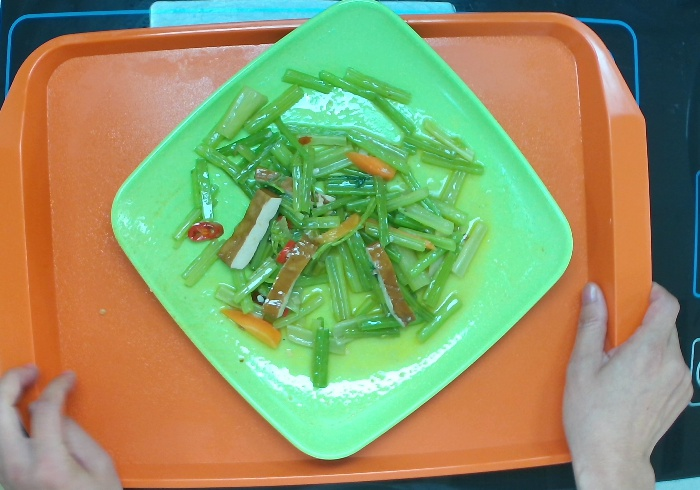ZNLD-Lv_Fang_Pan: (108, 1, 577, 465)
